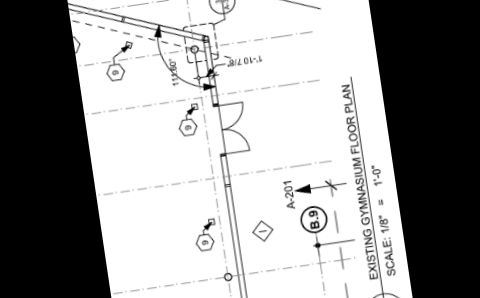double door: (216, 99, 253, 156)
